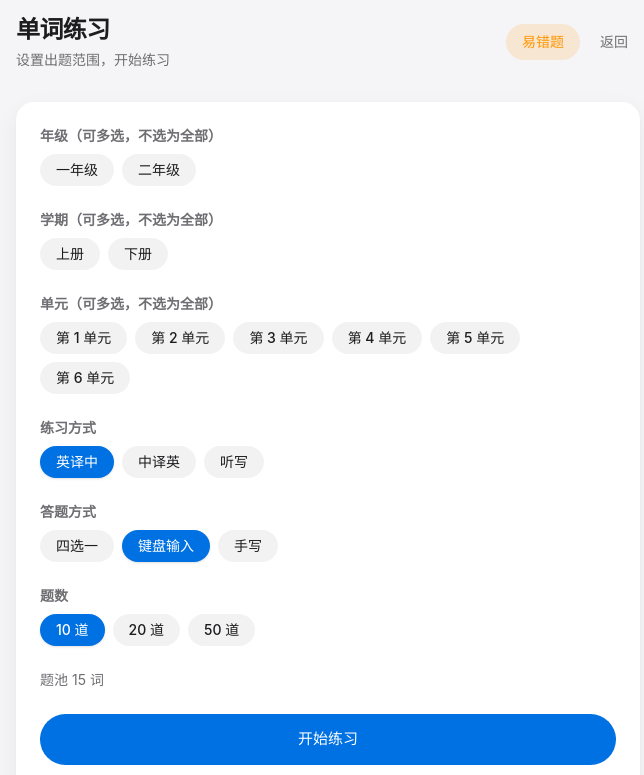
Test: 单词配置页题池 (FR-ENG-05) › 筛选为空时禁用开始并提示
Click the button "二年级" at (159, 170), box top-left (122, 154), bottom-right (196, 186)
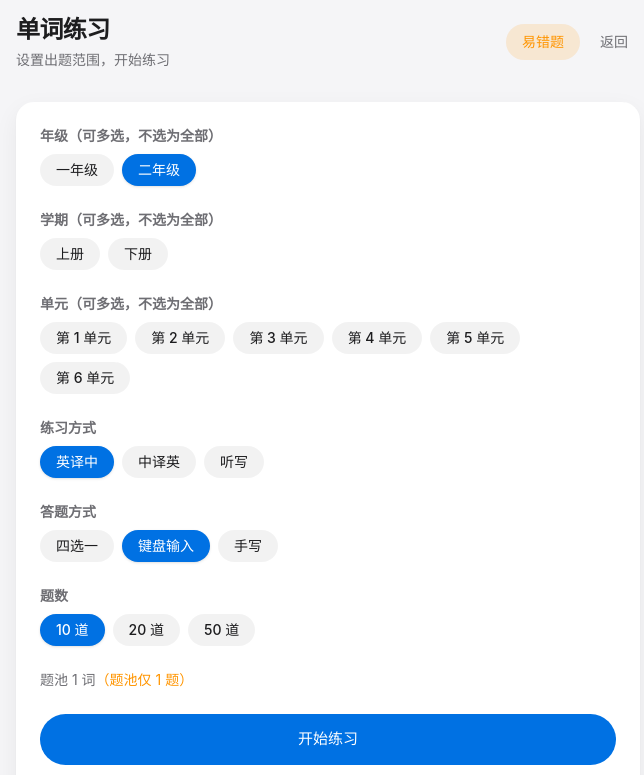
Click the button "第 6 单元" at (85, 378), box top-left (40, 362), bottom-right (130, 394)
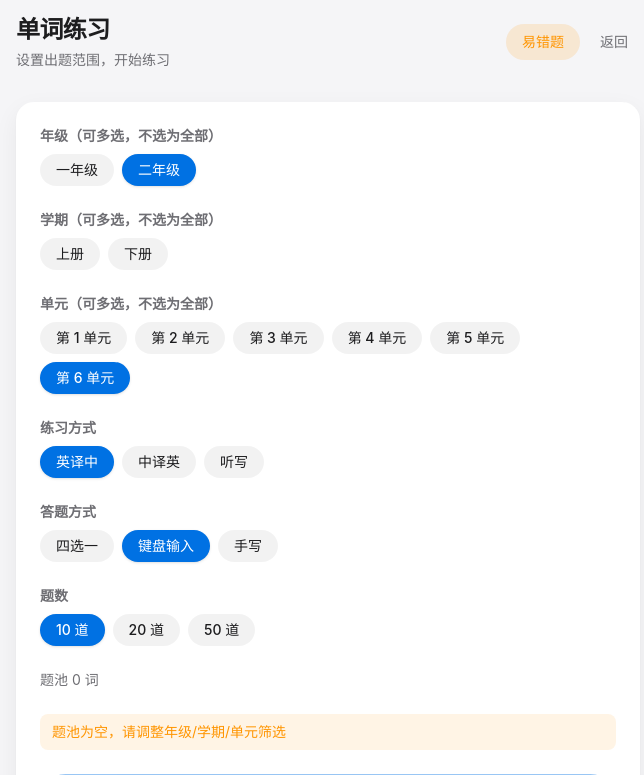
Expected: the text with test id "pool-count" reads "题池 0 词", top-left (40, 671), bottom-right (99, 688)
Expected: the text "题池为空，请调整年级/学期/单元筛选" is shown, top-left (40, 714), bottom-right (616, 750)
